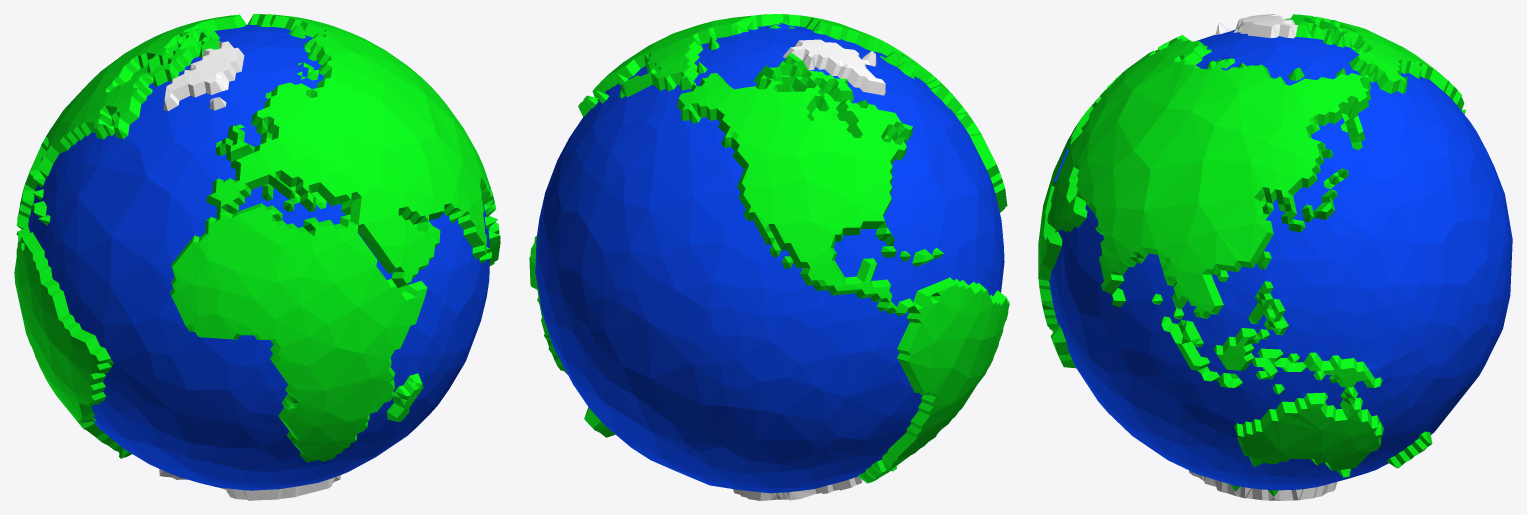
File: world.FBX
The picture shows the model from 3 angles, left to right: view 1: azimuth 30°, elevation 25°; view 2: azimuth 150°, elevation 25°; view 3: azimuth 270°, elevation 25°; orthographic projection.
Parts seen in each view (by area): view 1: GeoSphere001; view 2: GeoSphere001; view 3: GeoSphere001.
Part boxes in pixels (<box>): GeoSphere001: <box>14,14,500,500</box>; GeoSphere001: <box>529,14,1009,500</box>; GeoSphere001: <box>1038,14,1512,500</box>.
Size of the model in its own units: 177 by 176 by 173.
